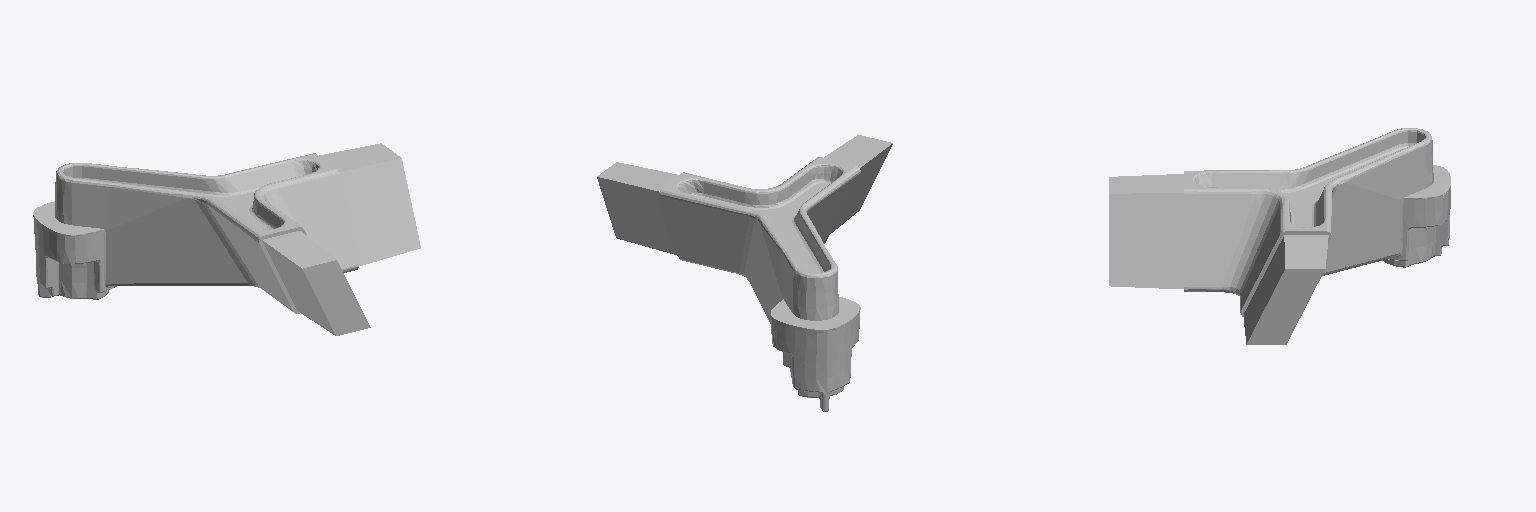
File: r1345_as-cast.obj
The picture shows the model from 3 angles: view 1: azimuth 30°, elevation 25°; view 2: azimuth 150°, elevation 25°; view 3: azimuth 270°, elevation 25°; orthographic projection.
Visible parts, largest first — view 1: 1; view 2: 1; view 3: 1.
Part boxes in pixels (x1,y1,x2,y2): 1: (33, 143, 420, 335); 1: (597, 135, 892, 411); 1: (1109, 128, 1450, 344).
Size of the model in its own units: 168 by 70.32 by 168.